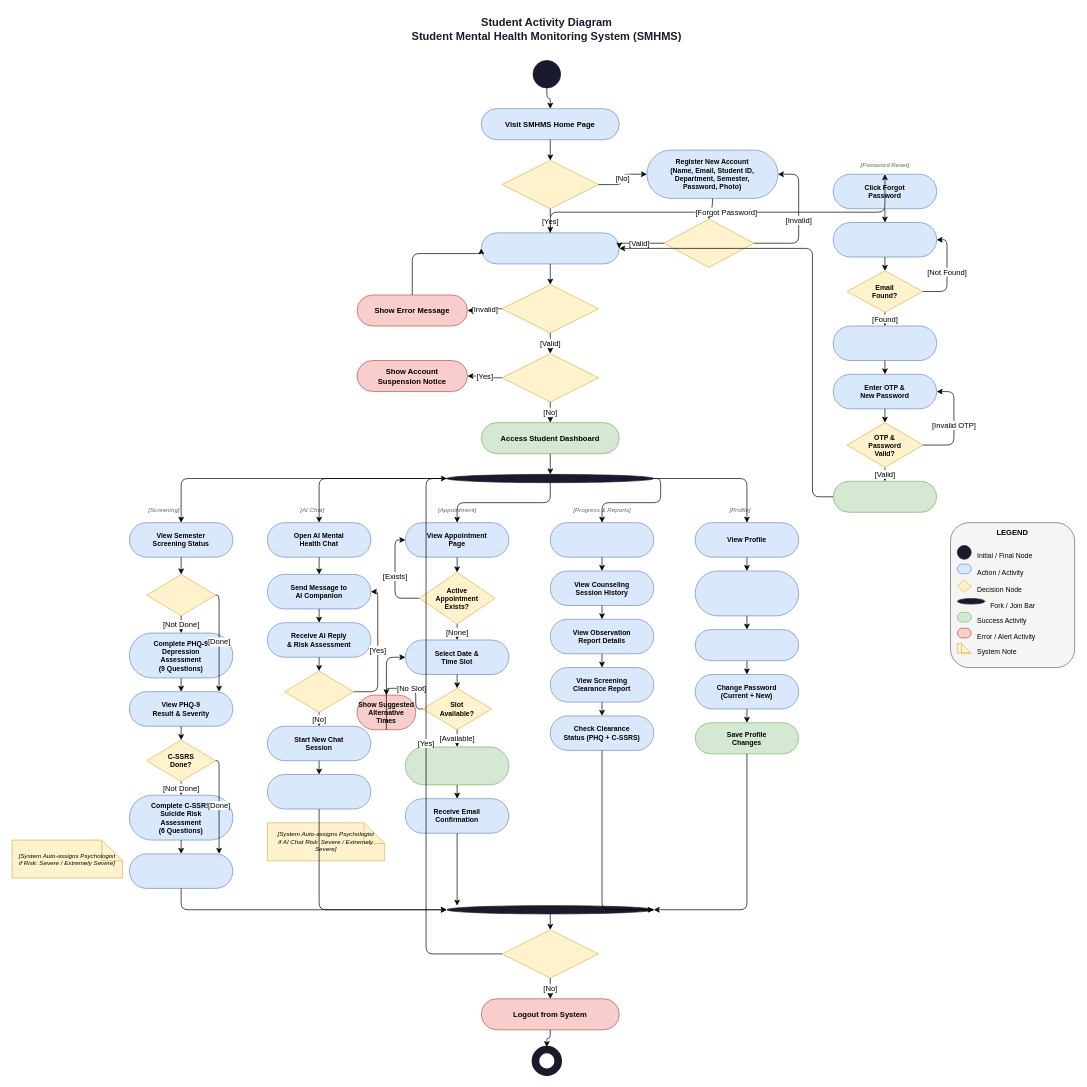
The diagram is 1087 pixels wide and 1087 high, and some of its shapes have lost their labels. The centre of each missing label's shape, as x and y in pixels:
Account Suspended?: the point at 550,377
Appointment Confirmed with Psychologist: the point at 457,765
Continue Chat?: the point at 319,691
Continue Using System?: the point at 550,953
Credentials Valid?: the point at 550,308
Edit Personal Info (Name, Email, Phone, DOB, Gender, Dept): the point at 746,593
Enter Registered Email Address: the point at 884,239
Has Account?: the point at 550,184
Login with Email & Password: the point at 550,248
Password Reset Successful: the point at 884,496
PHQ-9 Done?: the point at 181,595
Receive OTP via Email: the point at 884,343
Upload Profile Photo: the point at 746,645
Validation OK?: the point at 708,242
View AI Chat History & Sessions: the point at 319,791
View C-SSRS Result & Risk Level: the point at 181,870
View Progress Report: the point at 602,539
